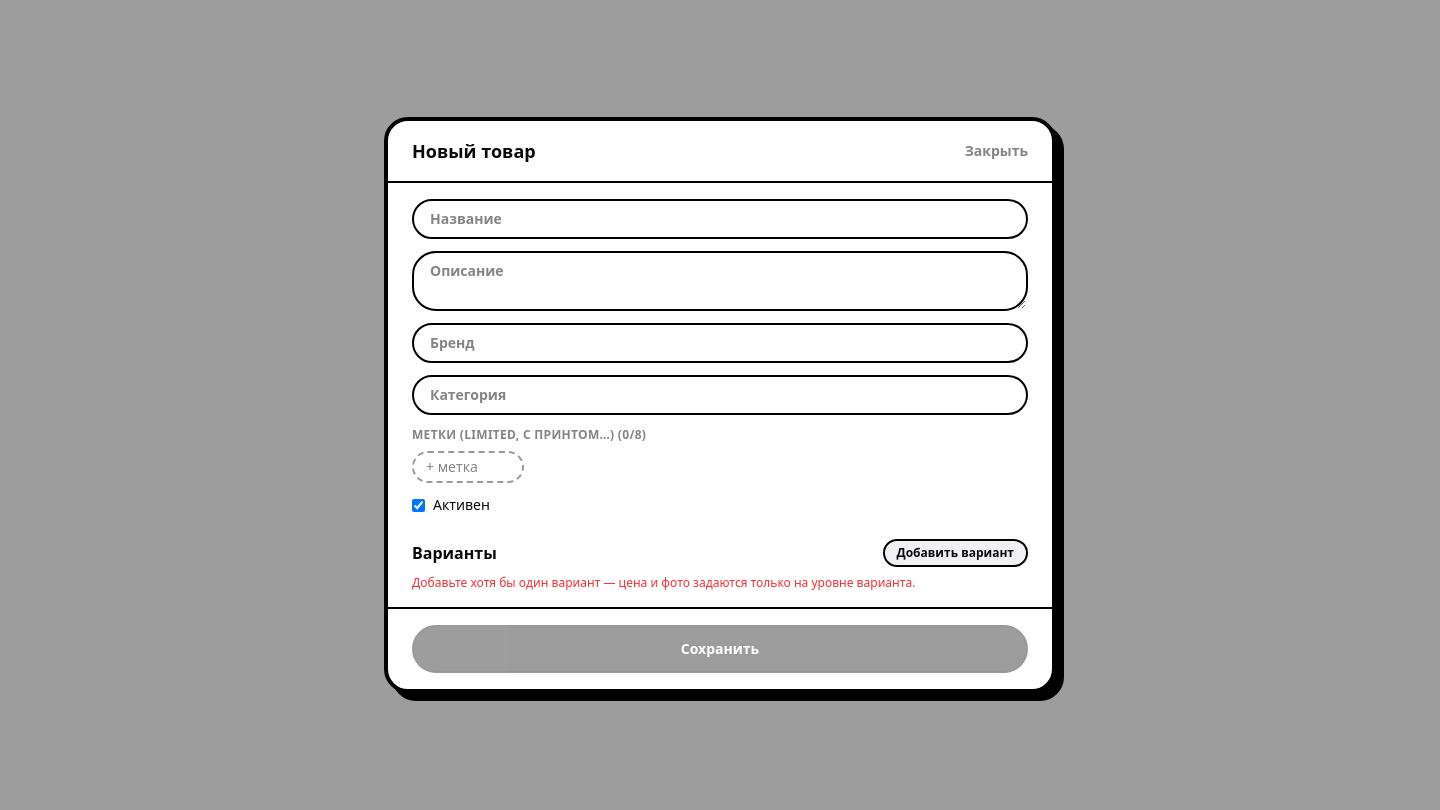
ProductForm › returns to the preset attribute list when Список is clicked from custom-attribute mode
The image size is (1440, 810).
Click the button "Добавить вариант" at (955, 553), box top-left (882, 539), bottom-right (1028, 567)
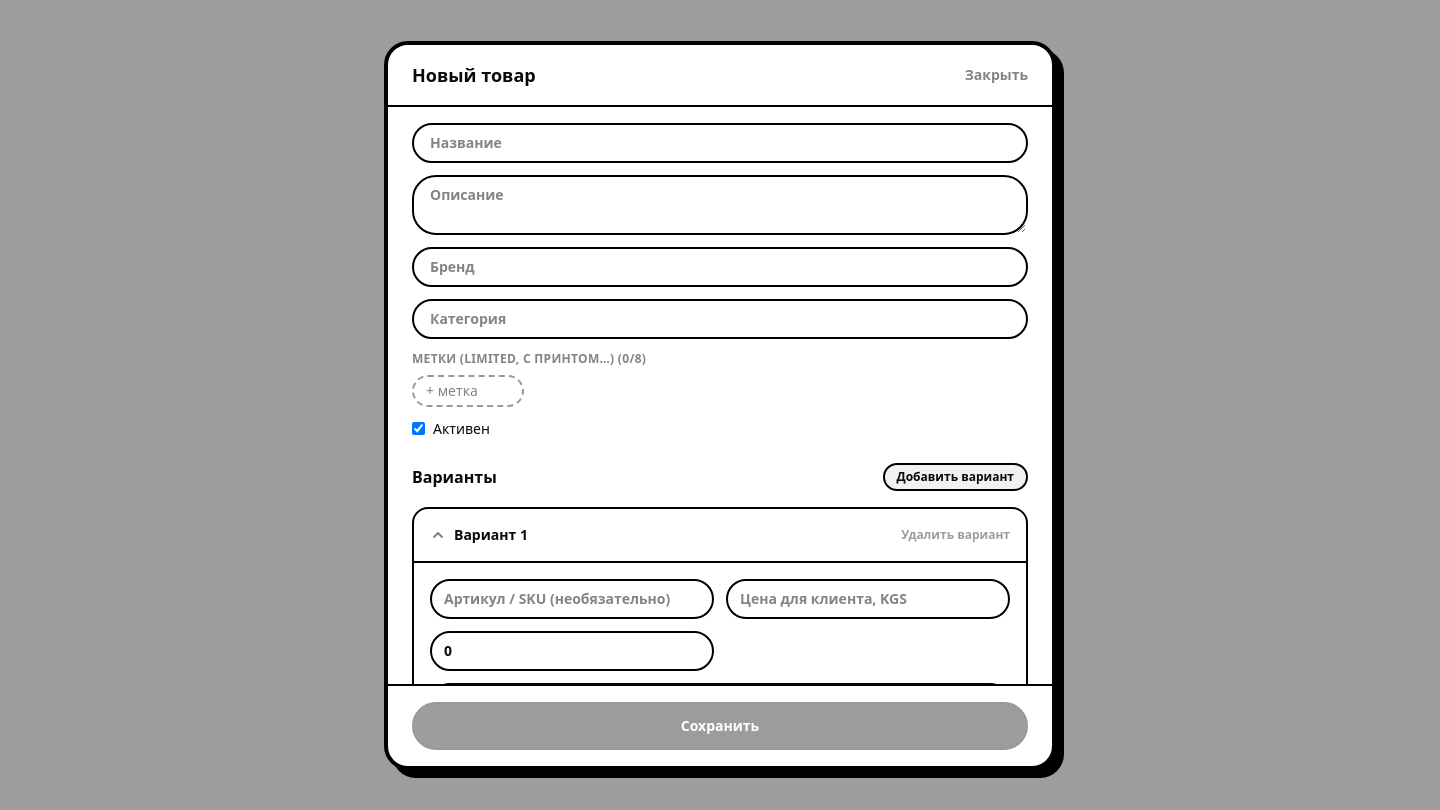
Type "NEW-SKU-1" into the field with placeholder "Артикул / SKU (необязательно)" at (572, 598), box top-left (430, 578), bottom-right (714, 618)
Type "15" into the number field with placeholder "Цена для клиента, KGS" at (868, 598), box top-left (726, 578), bottom-right (1010, 618)
(page scrolled)
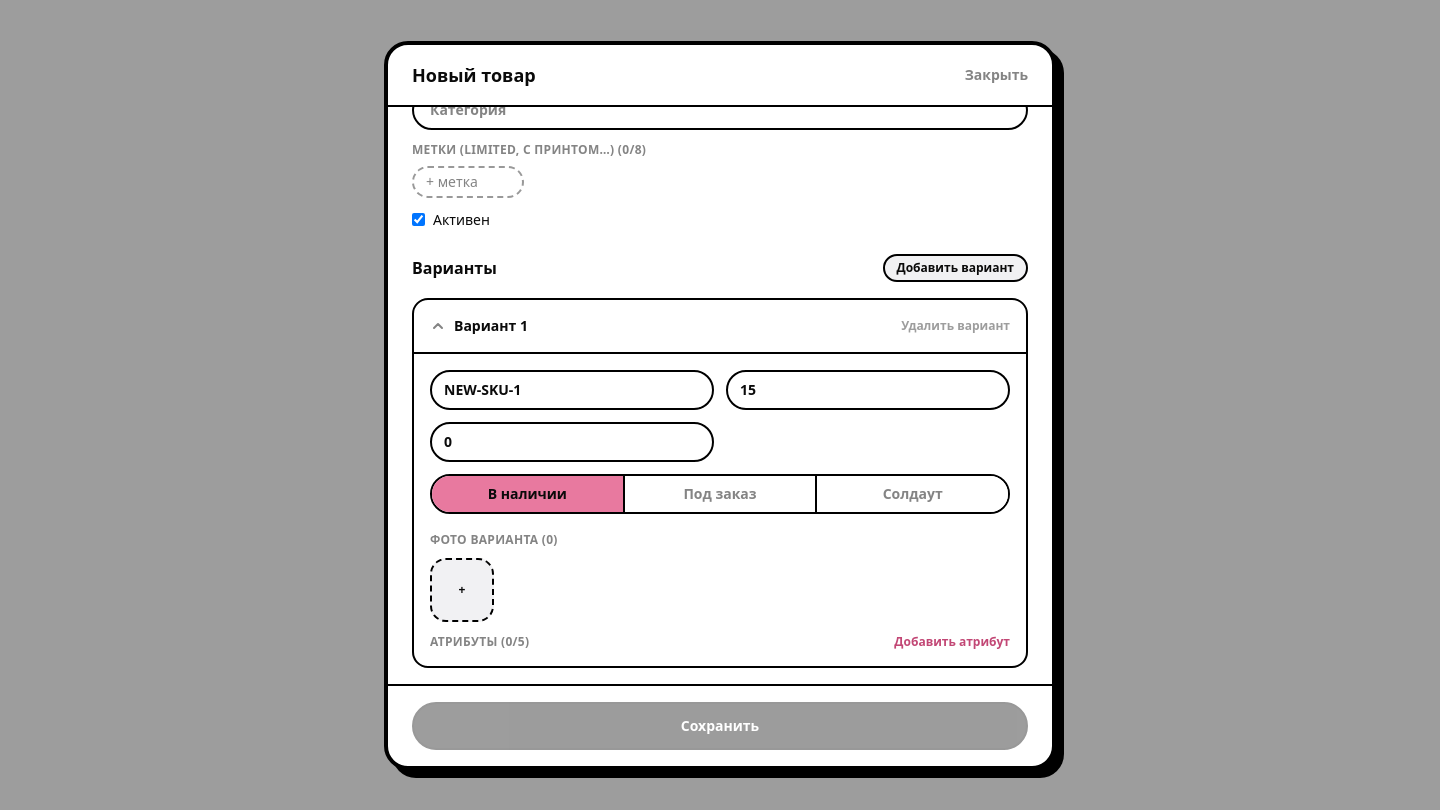
Click the button "Добавить атрибут" at (952, 642), box top-left (894, 634), bottom-right (1010, 650)
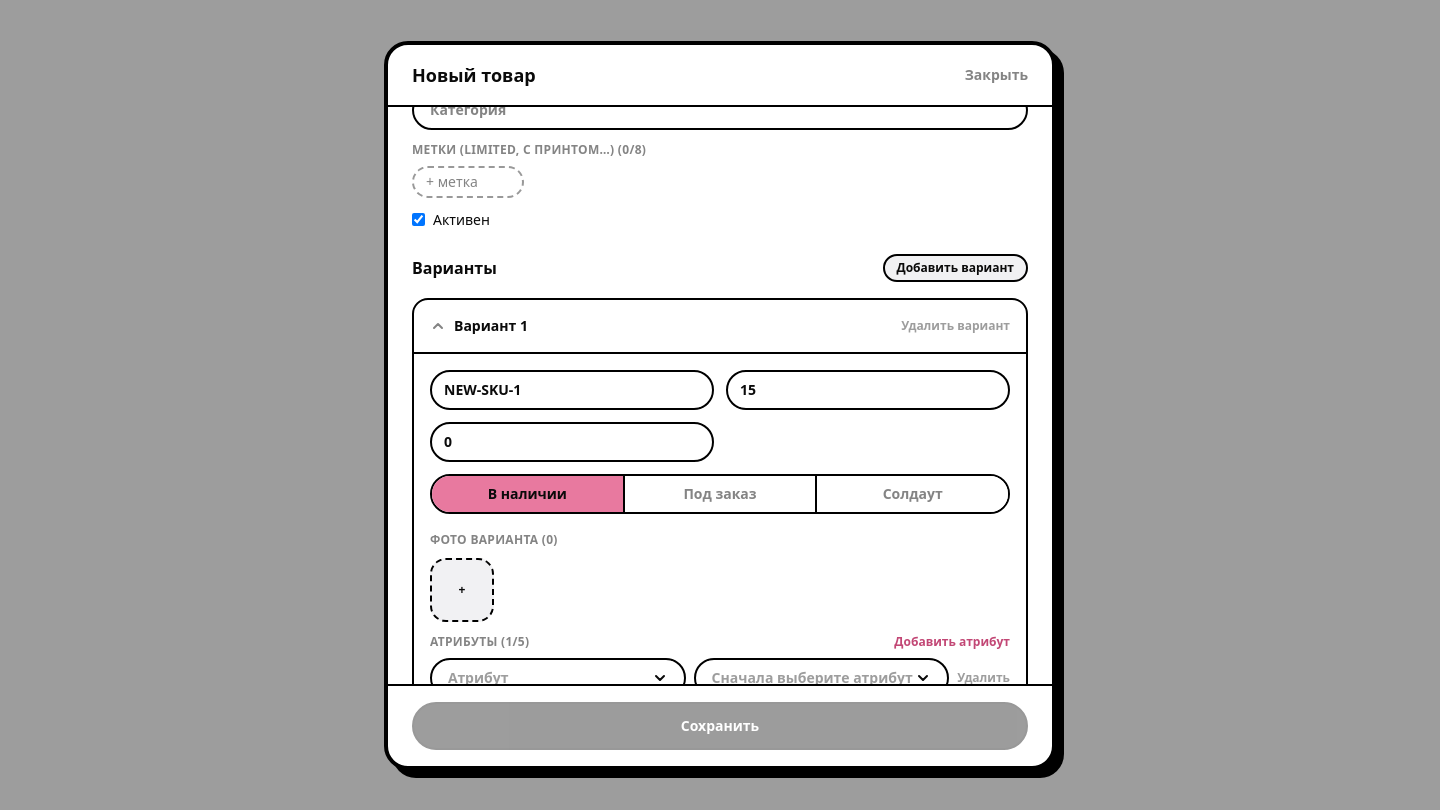
Click the button "Атрибут" at (558, 678), box top-left (430, 658), bottom-right (686, 698)
(page scrolled)
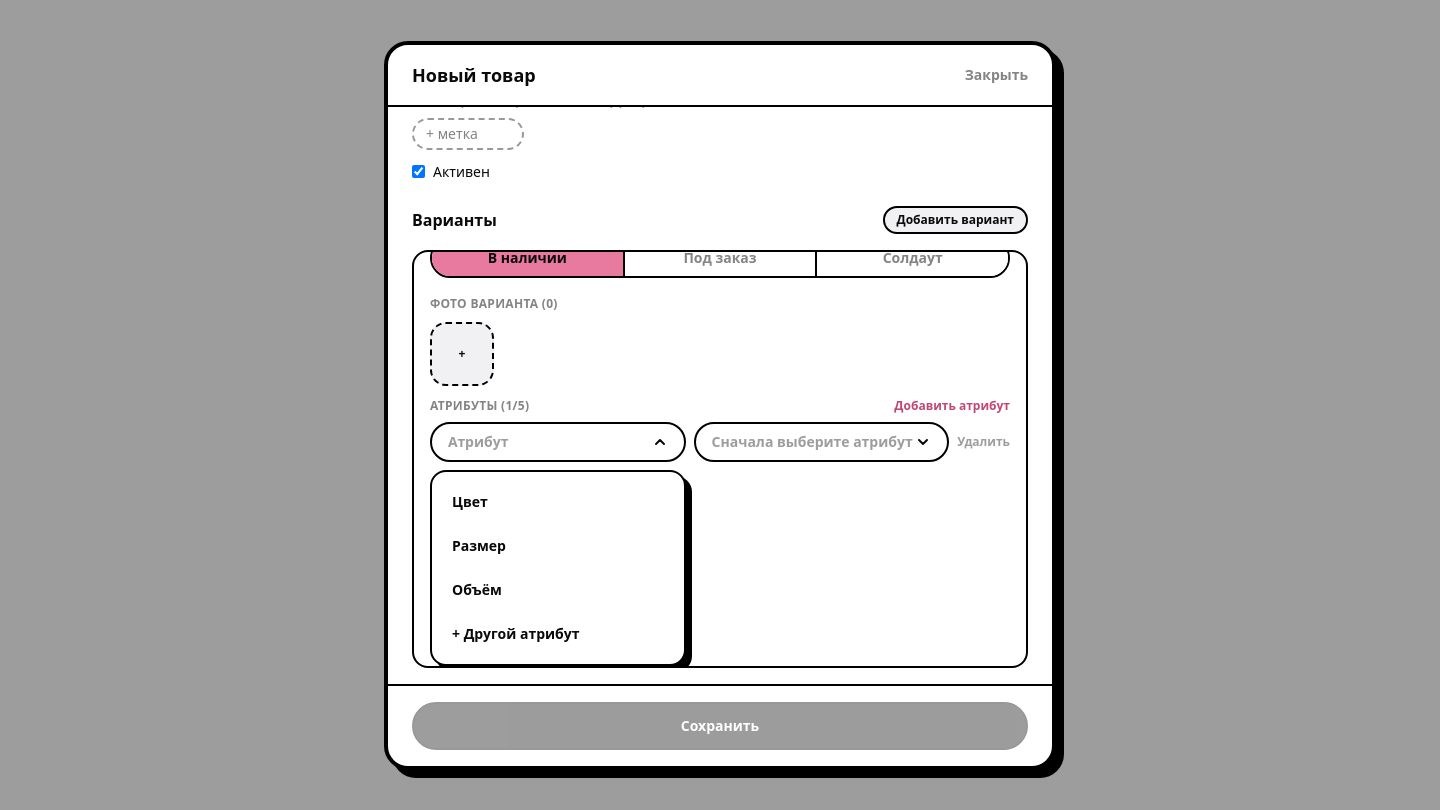
Click the button "+ Другой атрибут" at (558, 634), box top-left (440, 612), bottom-right (676, 656)
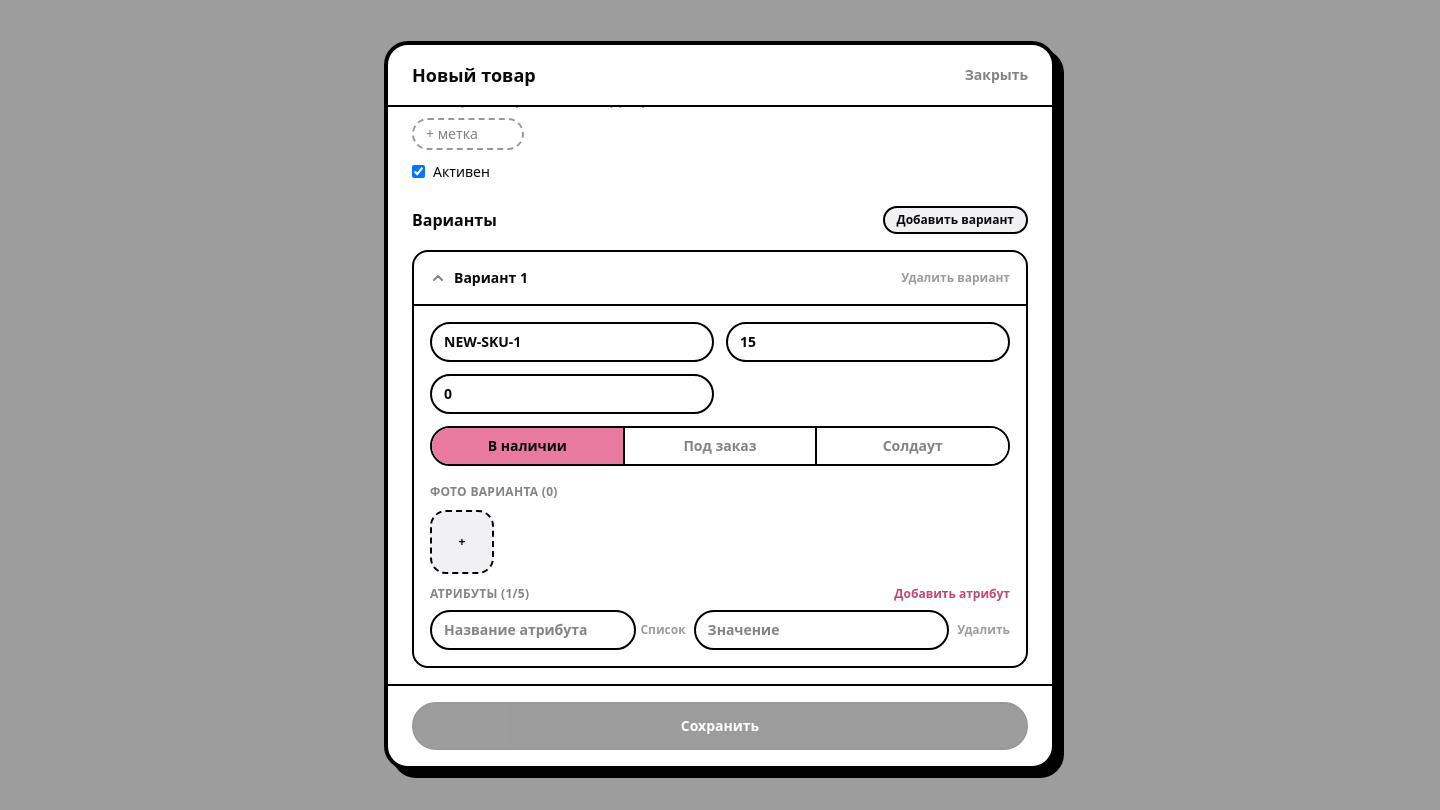
Click the button "Список" at (663, 630), box top-left (640, 622), bottom-right (686, 638)
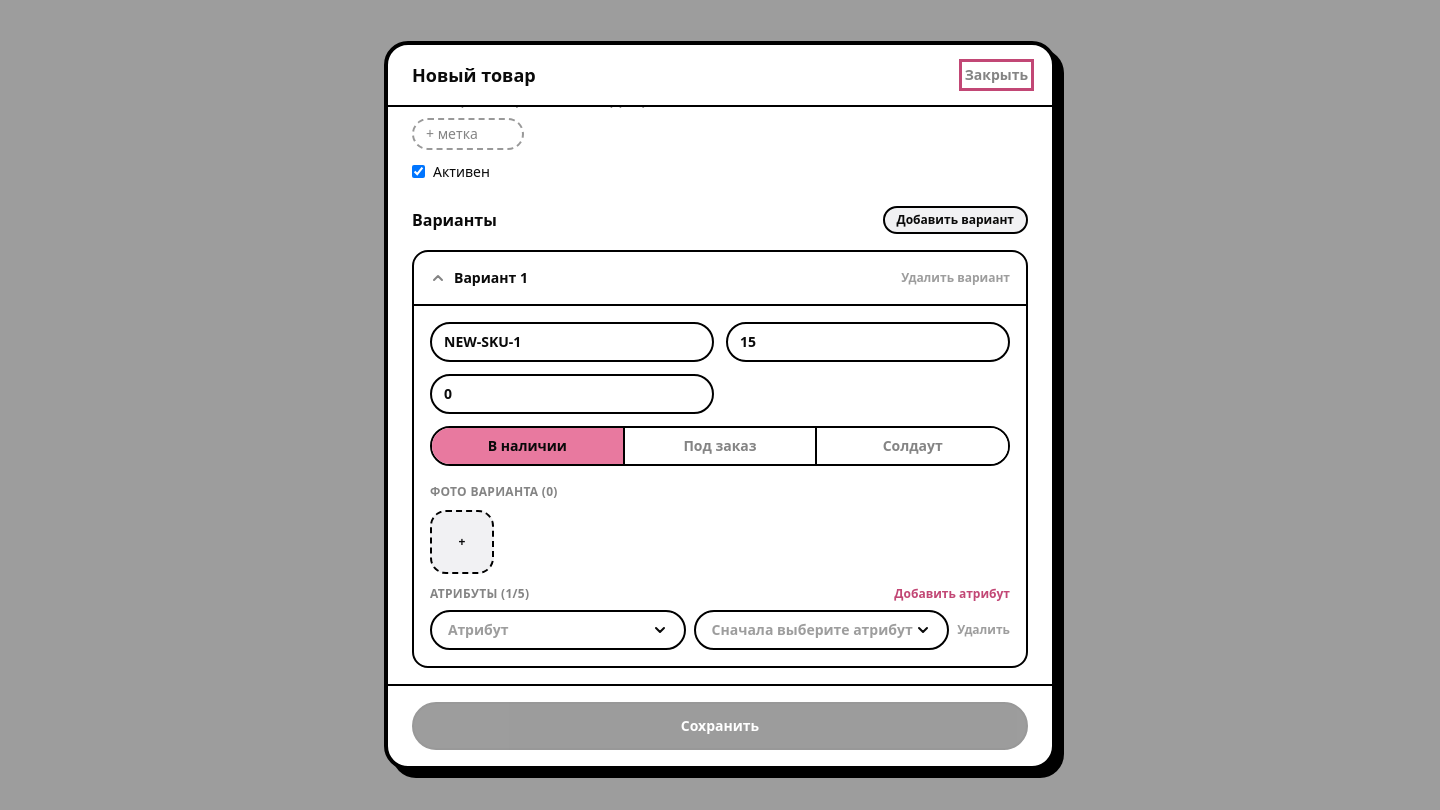
Check: the button "Атрибут" is shown, box top-left (430, 610), bottom-right (686, 650)
